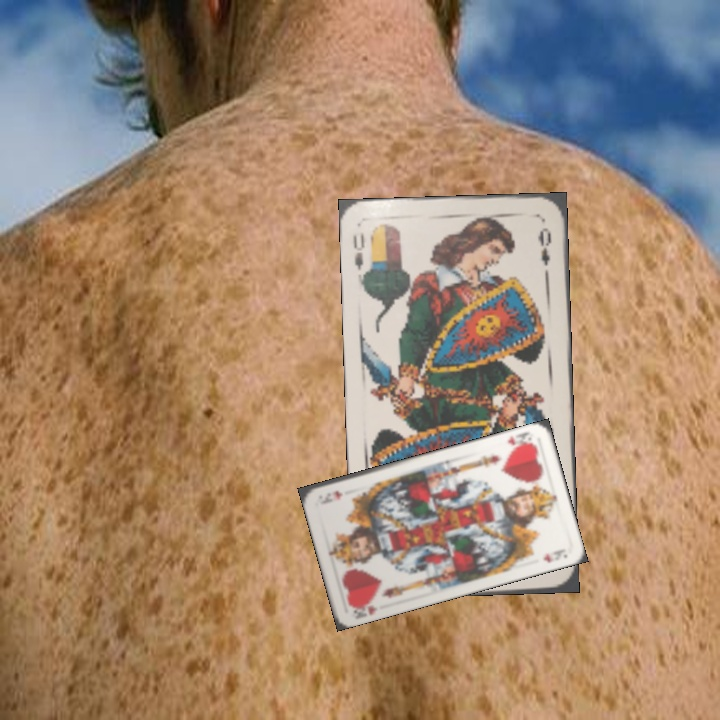EO: (348, 228, 368, 273)
HK: (346, 595, 379, 621), (503, 428, 535, 452)
